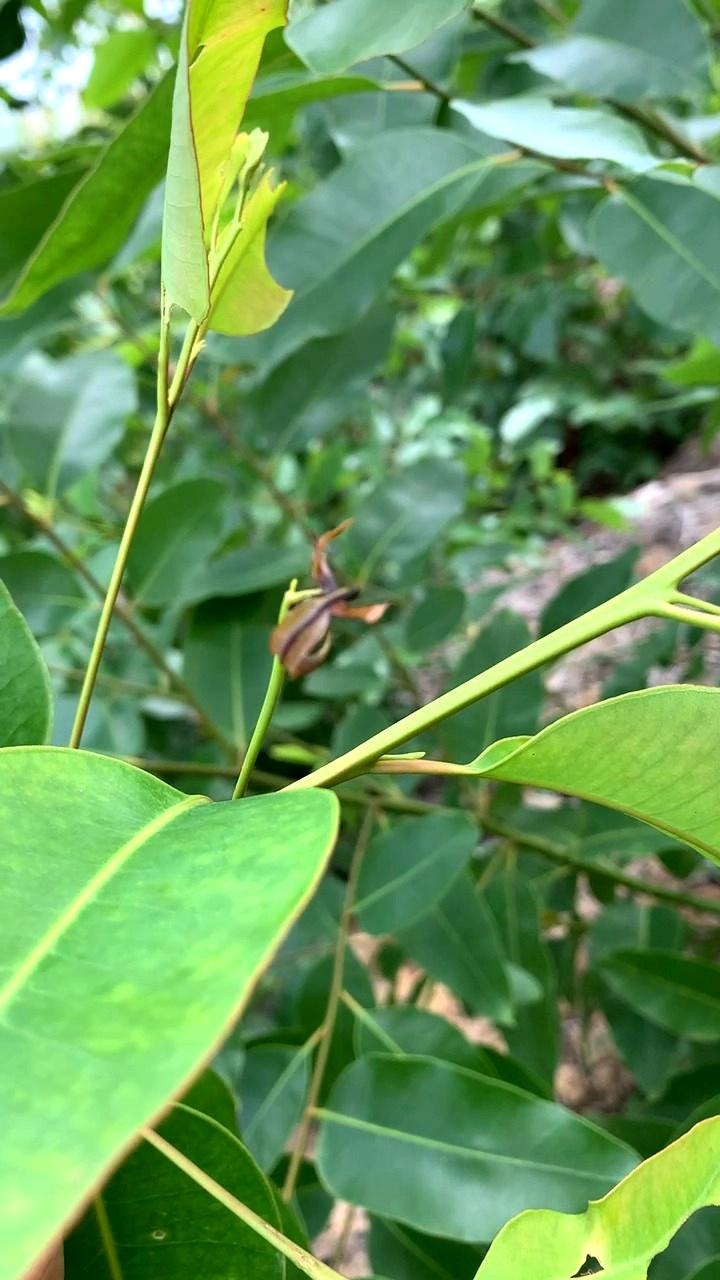Helopeltis-Withered Sprout: (246, 506, 399, 679)
